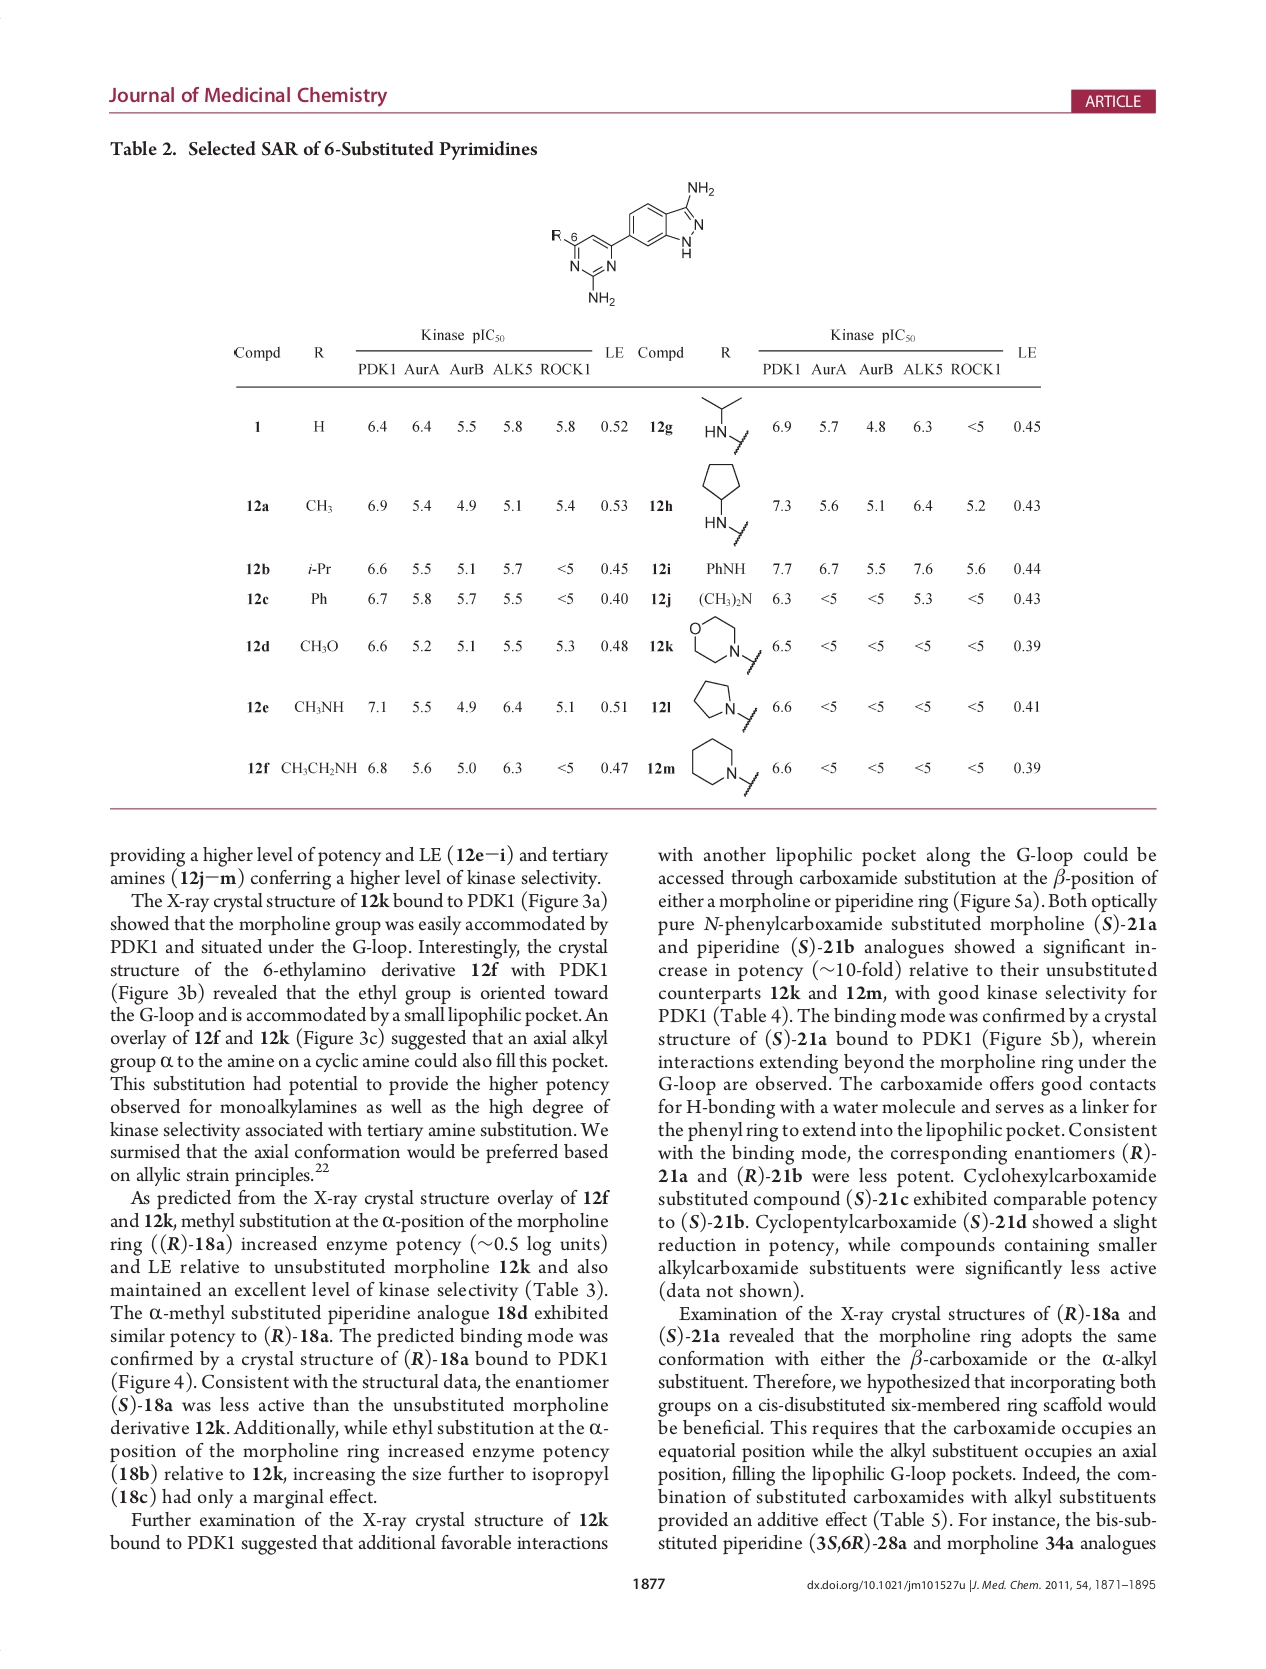exist_molecular: (539, 177, 718, 314), (694, 457, 755, 552), (686, 614, 766, 678), (685, 735, 763, 797), (688, 680, 761, 733), (696, 394, 753, 453)
